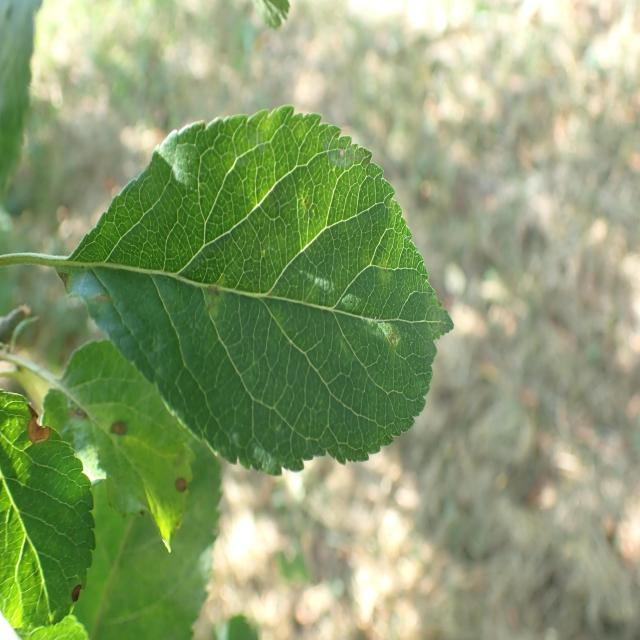scab: (73, 228, 457, 433)
